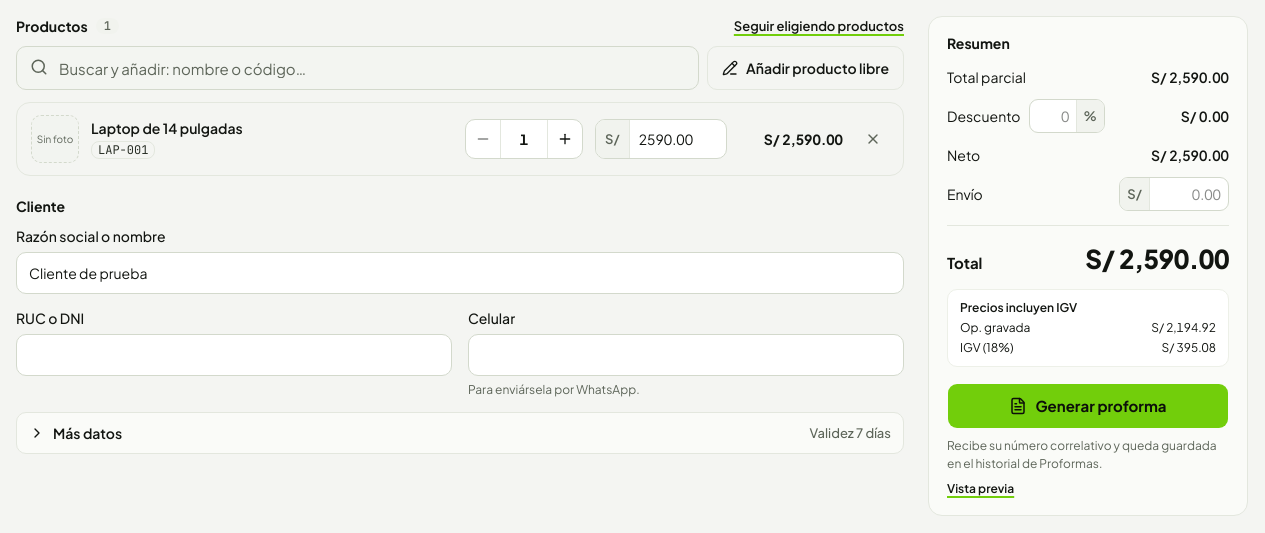
it: ProformaPanel › al quedar guardada, la proforma se vacía y la «lista» sigue con la guardada
Click the button "Generar proforma" at (1088, 406), box [947,383,1229,429]
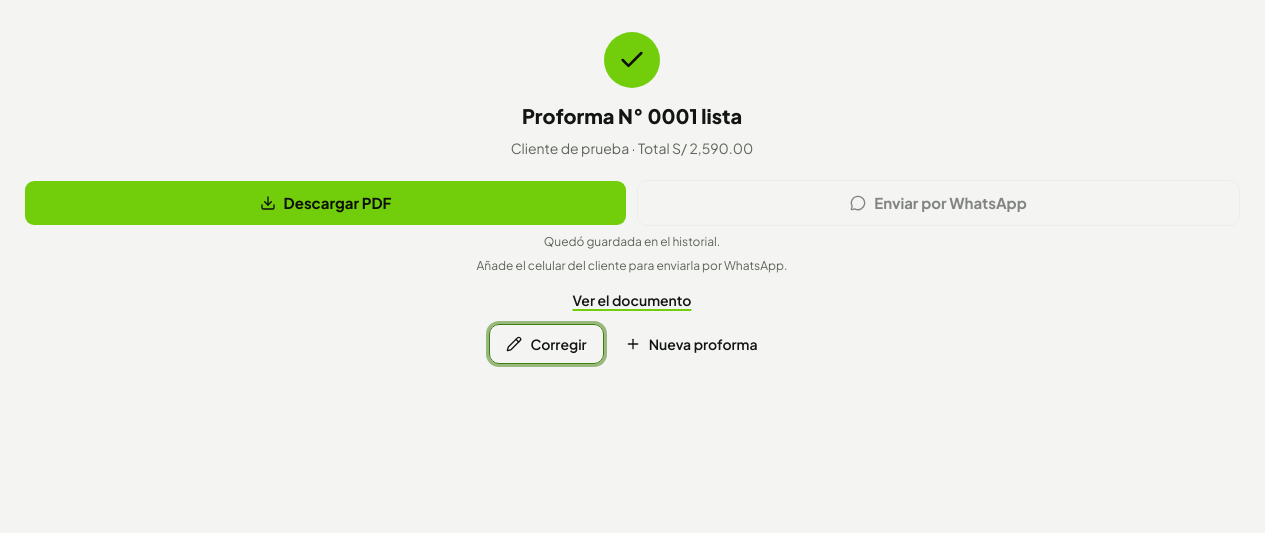
Expected: the button "Descargar PDF" is enabled, [24,180,627,226]
Expected: the text "Proforma N° 0001 lista" is shown, [522,102,742,130]
Expected: the text "Cliente de prueba · Total S/ 2,590.00" is shown, [511,138,753,158]
